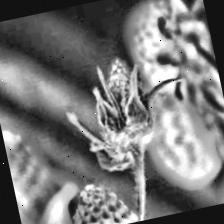Gray Mold: (57, 45, 201, 190)
